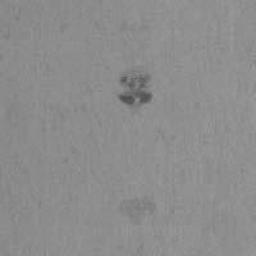Oil spot: (118, 74, 152, 107)
